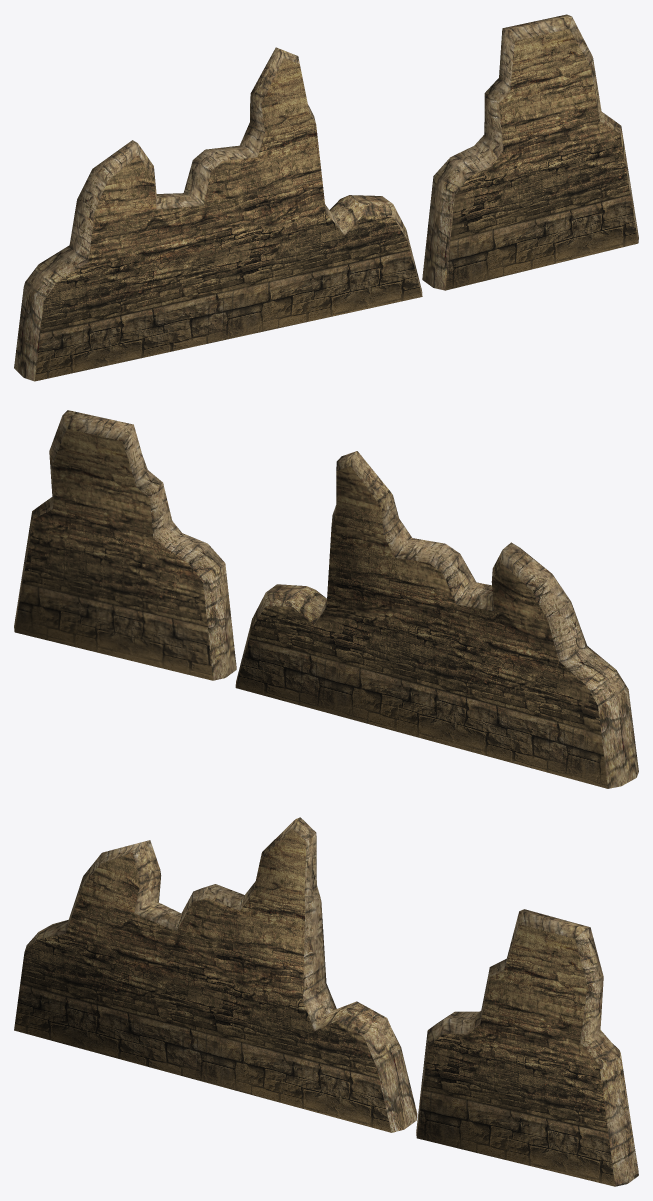
File: SandstoneRuins6.fbx
The picture shows the model from 3 angles, top to bottom: view 1: azimuth 30°, elevation 25°; view 2: azimuth 150°, elevation 25°; view 3: azimuth 330°, elevation 25°; orthographic projection. The views are drawn at different scales.
Parts seen in each view (by area): view 1: Object012; view 2: Object012; view 3: Object012.
Boxes of the visible parts, left/top/right/bottom form: Object012: left=14, top=14, right=638, bottom=381; Object012: left=14, top=410, right=638, bottom=788; Object012: left=14, top=817, right=638, bottom=1186.
Size of the model in its own units: 825 by 337 by 82.8.
